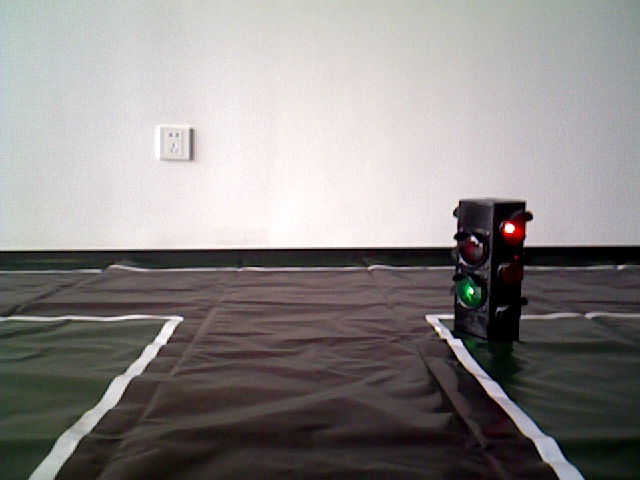red: (457, 202, 524, 343)
